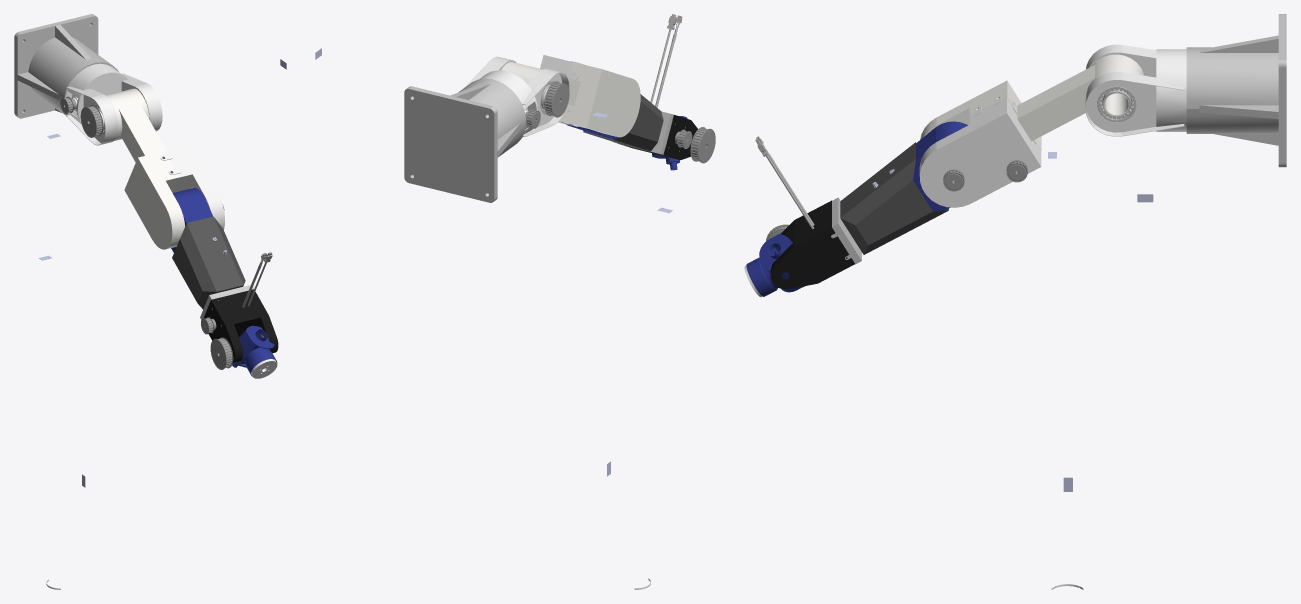
File: robot_final.glb
3 views of the same model, side by side, from view 1: azimuth 30°, elevation 25°; view 2: azimuth 150°, elevation 25°; view 3: azimuth 270°, elevation 25° (orthographic). The views are drawn at different scales.
Visible parts, largest first — view 1: empty_44, empty_5, empty_175, empty_121, empty_77, empty_174, empty_43, empty_122, empty_64, empty_101, empty_169, empty_81 (+4 smaller); view 2: empty_174, empty_175, empty_44, empty_5, empty_121, empty_77, empty_81, empty_169, empty_75, empty_43; view 3: empty_43, empty_174, empty_5, empty_44, empty_122, empty_77, empty_175, empty_64, empty_101, empty_172, empty_173, empty_78.
Part boxes in pixels (left/top/right/bottom): empty_44: left=99, top=88, right=184, bottom=249; empty_5: left=66, top=63, right=162, bottom=145; empty_175: left=14, top=14, right=98, bottom=118; empty_121: left=172, top=220, right=229, bottom=309; empty_77: left=204, top=289, right=278, bottom=362; empty_174: left=22, top=25, right=118, bottom=115; empty_43: left=160, top=145, right=224, bottom=229; empty_122: left=200, top=216, right=245, bottom=289; empty_64: left=171, top=188, right=212, bottom=249; empty_101: left=235, top=325, right=274, bottom=367; empty_169: left=80, top=105, right=103, bottom=137; empty_81: left=210, top=337, right=233, bottom=369; empty_174: left=412, top=78, right=525, bottom=193; empty_175: left=404, top=86, right=497, bottom=202; empty_44: left=501, top=62, right=640, bottom=137; empty_5: left=463, top=56, right=569, bottom=137; empty_121: left=599, top=94, right=663, bottom=151; empty_77: left=618, top=115, right=697, bottom=160; empty_81: left=690, top=127, right=715, bottom=163; empty_169: left=544, top=81, right=569, bottom=117; empty_75: left=650, top=14, right=688, bottom=148; empty_43: left=540, top=55, right=584, bottom=126; empty_43: left=919, top=95, right=1041, bottom=207; empty_174: left=1186, top=47, right=1278, bottom=133; empty_5: left=1085, top=44, right=1186, bottom=136; empty_44: left=920, top=54, right=1143, bottom=150; empty_122: left=840, top=150, right=948, bottom=254; empty_77: left=770, top=200, right=854, bottom=289; empty_175: left=1278, top=14, right=1286, bottom=167; empty_64: left=913, top=121, right=967, bottom=197; empty_101: left=759, top=234, right=803, bottom=292; empty_172: left=1199, top=105, right=1278, bottom=119; empty_173: left=1199, top=35, right=1278, bottom=52; empty_78: left=831, top=197, right=861, bottom=264.
Bounding box in the file's own units: 1040 × 1698 × 1376.
